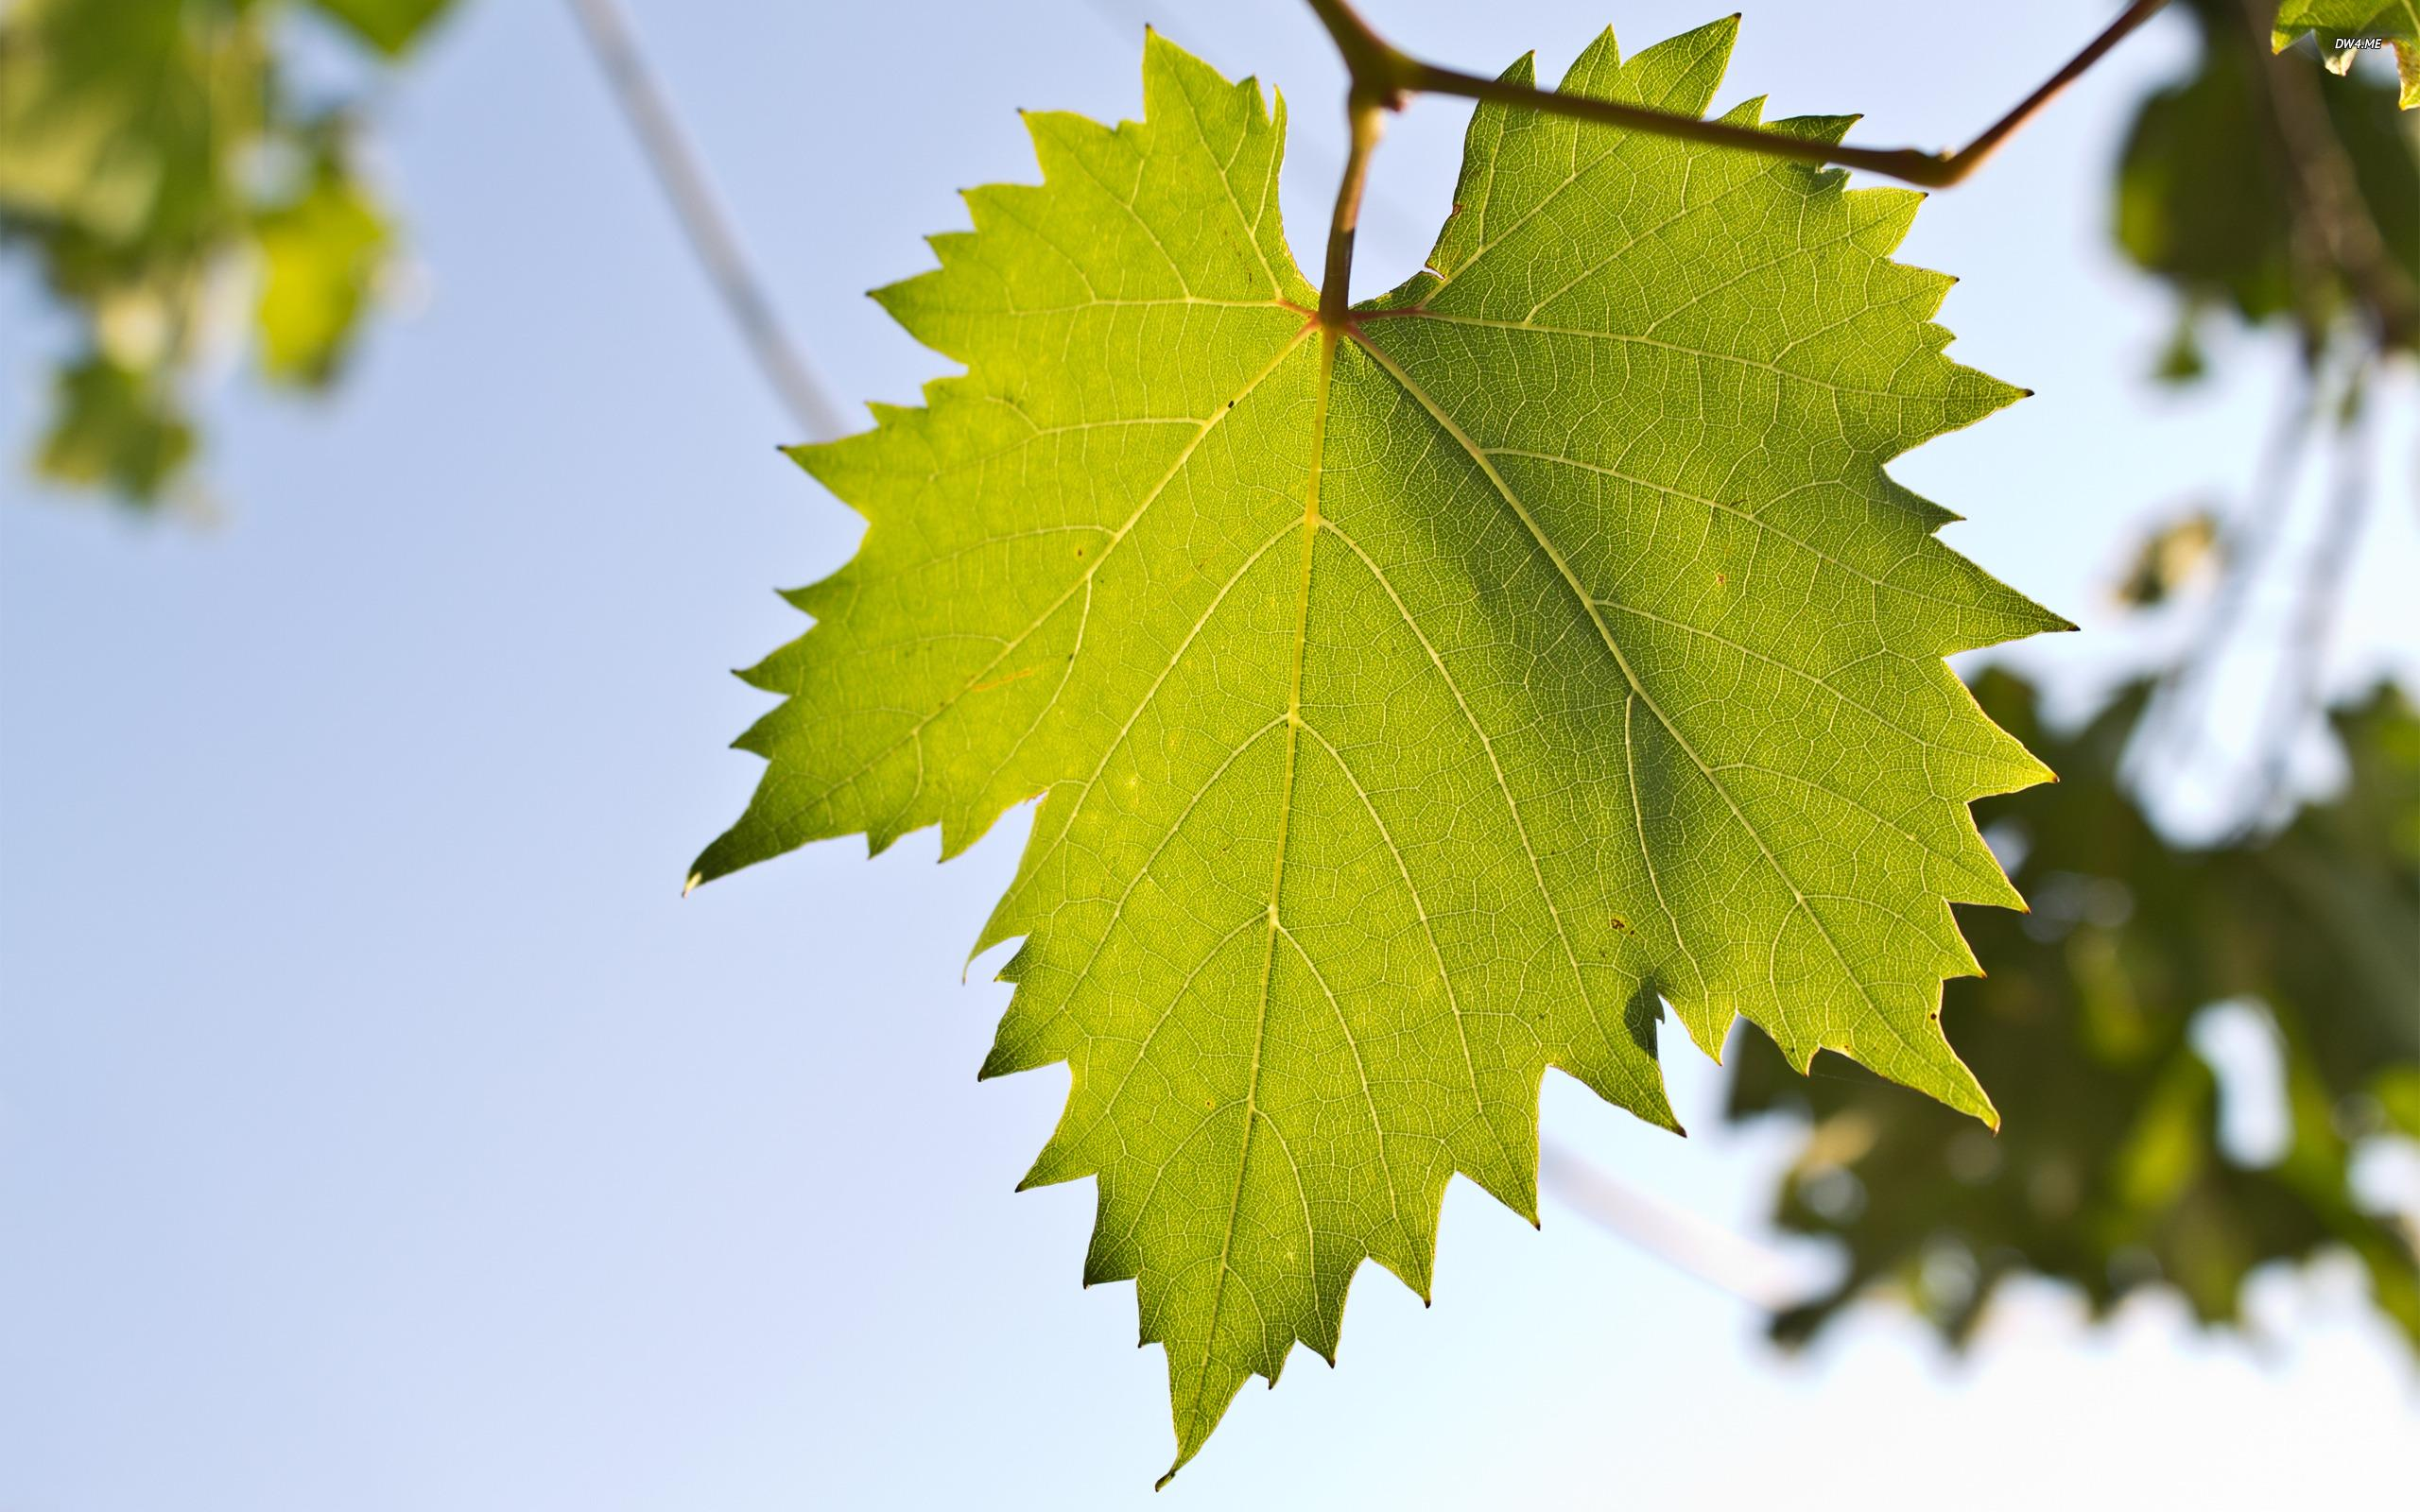grape leaf black rot: (589, 21, 2061, 1472)
